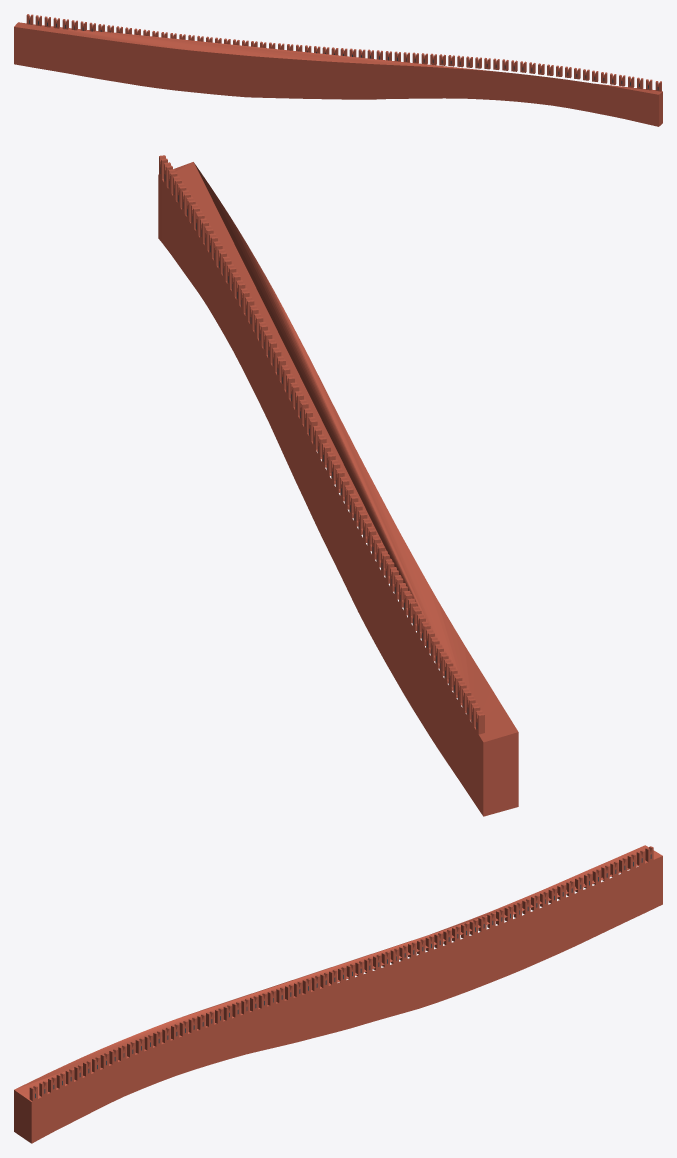
File: moscow-kremlin-wall-senate-saviour.glb
The picture shows the model from 3 angles, top to bottom: view 1: azimuth 30°, elevation 25°; view 2: azimuth 150°, elevation 25°; view 3: azimuth 270°, elevation 25°; orthographic projection. The views are drawn at different scales.
Parts seen in each view (by area): view 1: Kremlin Wall, Senate Tower to Saviour Tower; view 2: Kremlin Wall, Senate Tower to Saviour Tower; view 3: Kremlin Wall, Senate Tower to Saviour Tower.
Part boxes in pixels (x1,y1,x2,y2): Kremlin Wall, Senate Tower to Saviour Tower: [14, 14, 662, 126]; Kremlin Wall, Senate Tower to Saviour Tower: [158, 155, 518, 816]; Kremlin Wall, Senate Tower to Saviour Tower: [14, 845, 662, 1143].
Bounding box in the file's own units: 103 × 15.43 × 106.
